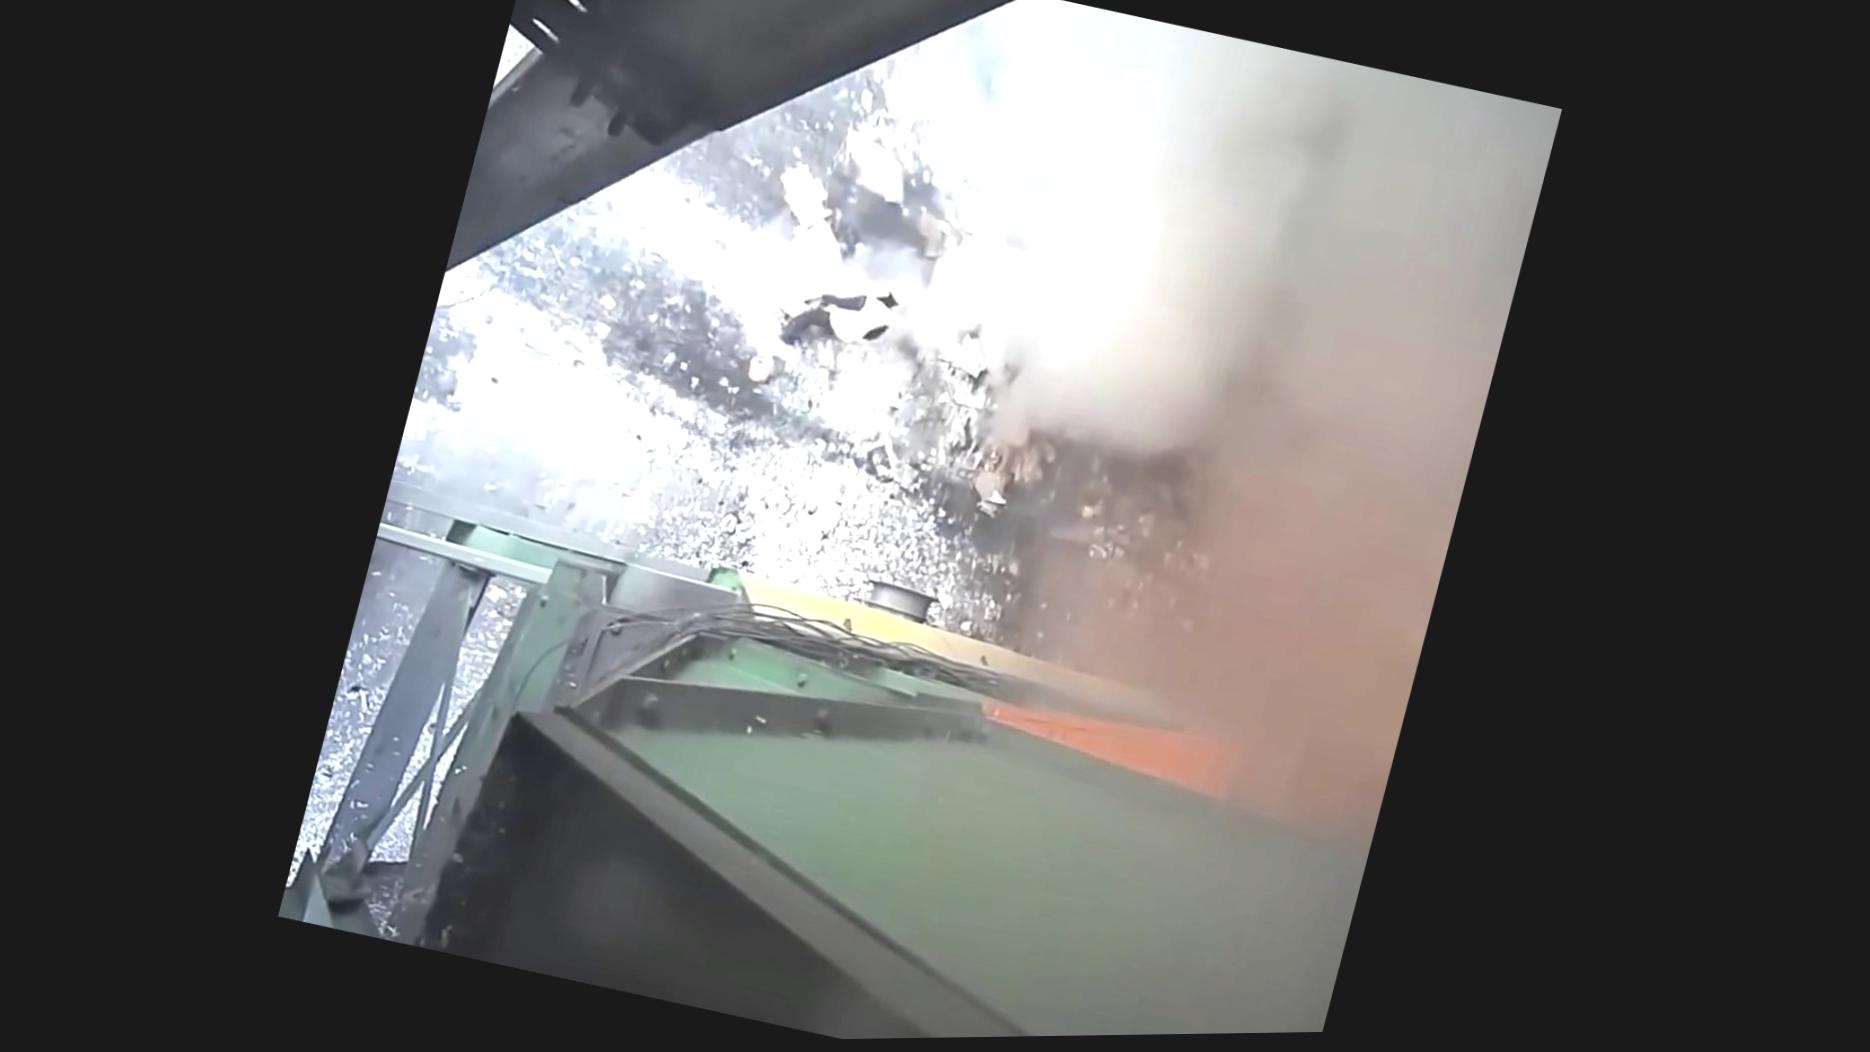smoke: (927, 89, 1438, 596)
